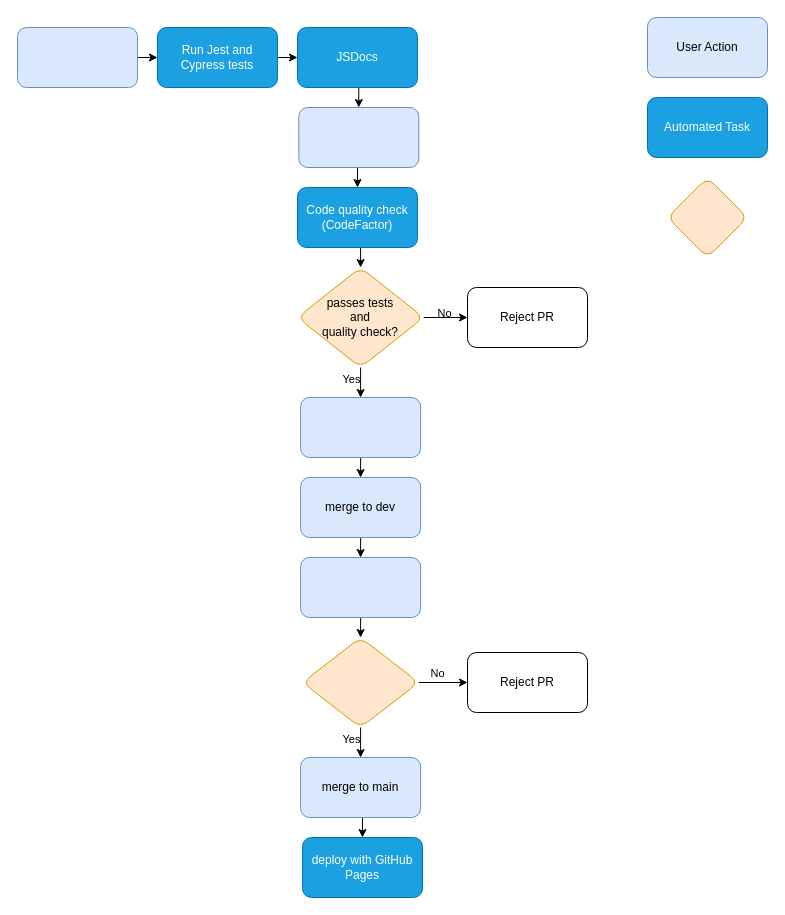
Image size: 785x915. Some labels were removed from this diagram. Each missing label, with the centre of its shape:
Decision: the point at 707,217
Fix merge conflicts, if any: the point at 360,427
open pull request to dev: the point at 358,137
open pull request to main for final review by a teammate: the point at 360,587
passes human review?: the point at 360,682
push code to a feature branch: the point at 77,57
